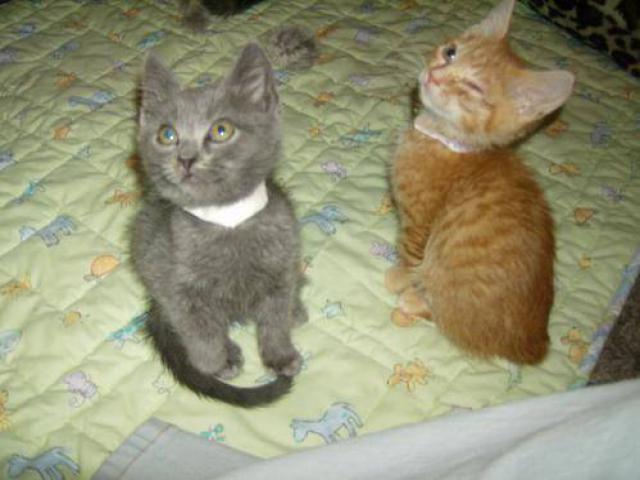cat: (122, 37, 309, 403), (390, 19, 571, 371)
